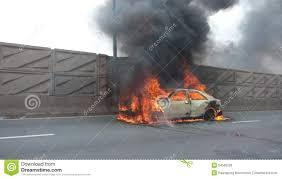fire: (115, 71, 219, 124)
